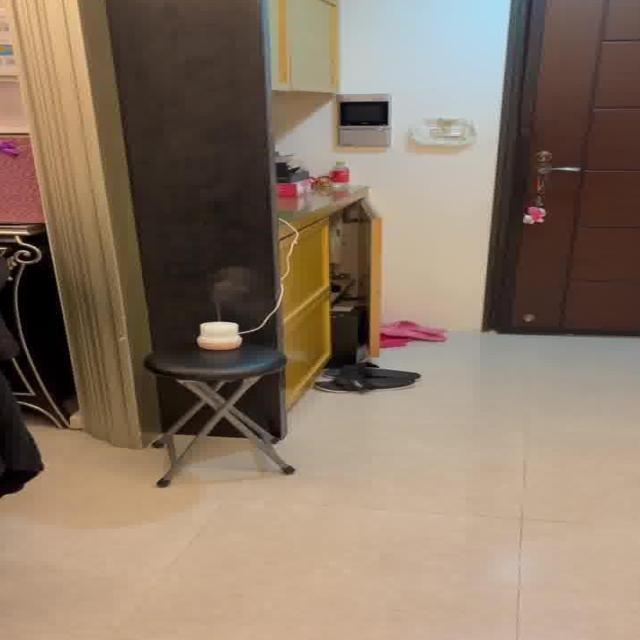fire: (202, 264, 260, 318)
